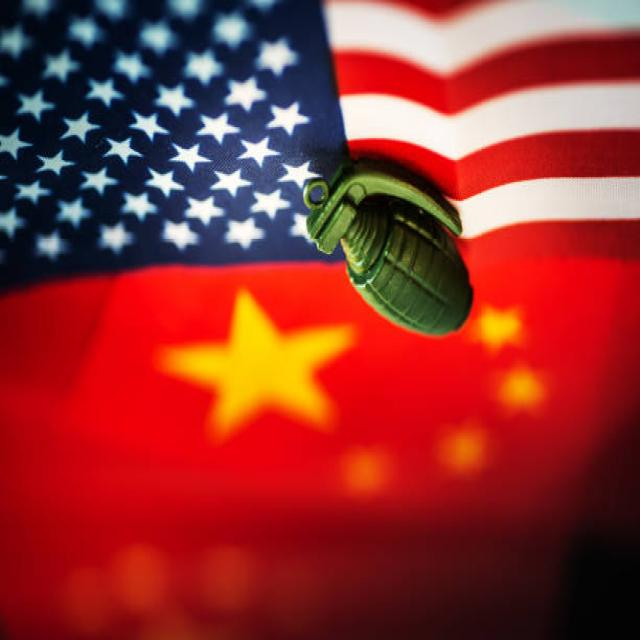grenade: (301, 154, 475, 342)
